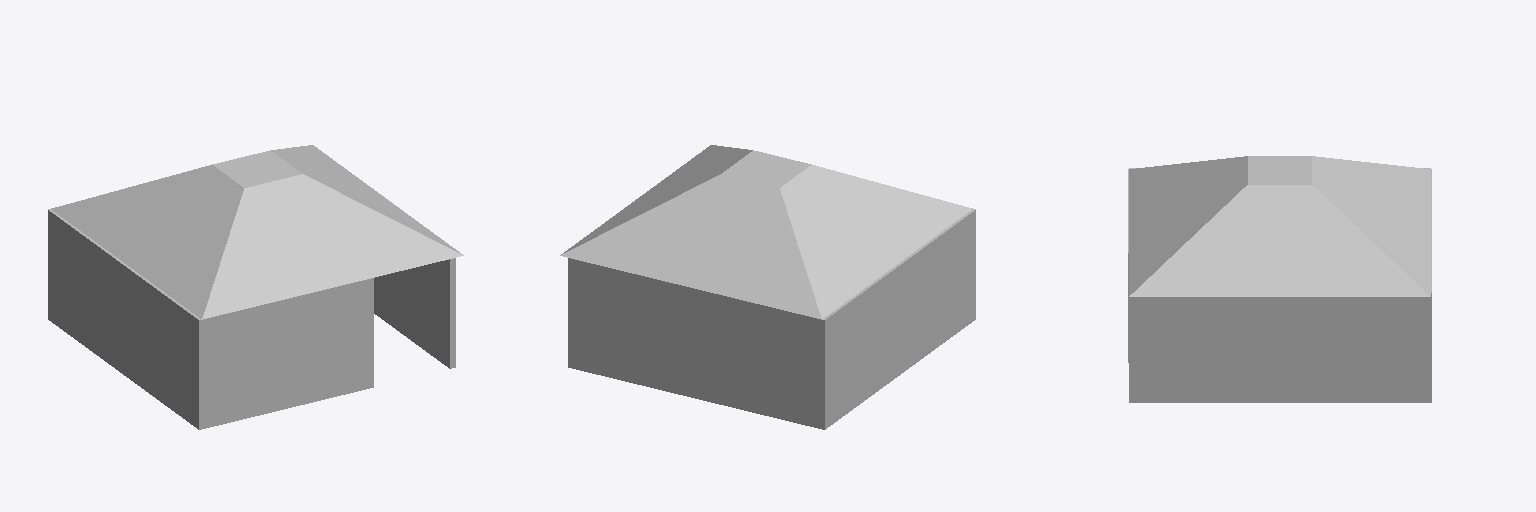
The model's file is testGenericHouse.obj.
3 views of the same model, side by side, from view 1: azimuth 30°, elevation 25°; view 2: azimuth 150°, elevation 25°; view 3: azimuth 270°, elevation 25° (orthographic).
Parts seen in each view (by area): view 1: pCube3, pCube2, pCube1, pasted__pCube1 group; view 2: pCube3, pasted__pasted__pCube1 pasted__group group1, pCube1; view 3: pCube3, pasted__pCube1 group.
Part boxes in pixels (x1,y1,x2,y2): pCube3: (52, 145, 463, 319); pCube2: (202, 278, 373, 428); pCube1: (48, 209, 201, 429); pasted__pCube1 group: (374, 258, 455, 368); pCube3: (560, 145, 971, 318); pasted__pasted__pCube1 pasted__group group1: (569, 258, 824, 429); pCube1: (823, 209, 975, 429); pCube3: (1129, 156, 1430, 296); pasted__pCube1 group: (1129, 297, 1430, 402).
Size of the model in its own units: 25.28 by 15.73 by 25.04.